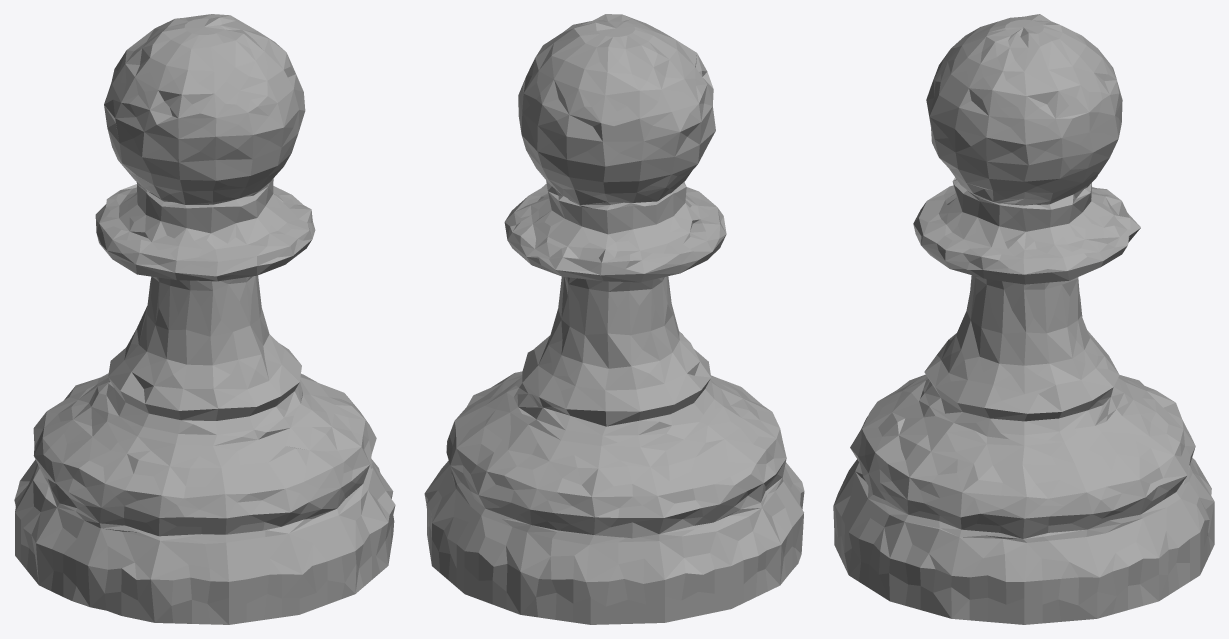
The model's file is pawn.fbx.
3 views of the same model, side by side, from view 1: azimuth 30°, elevation 25°; view 2: azimuth 150°, elevation 25°; view 3: azimuth 270°, elevation 25° (orthographic).
Parts seen in each view (by area): view 1: Pawn; view 2: Pawn; view 3: Pawn.
Part boxes in pixels (bbox=[...]): Pawn: bbox=[14, 14, 395, 624]; Pawn: bbox=[424, 14, 804, 624]; Pawn: bbox=[833, 14, 1214, 624].
Size of the model in its own units: 201 by 304 by 200.
